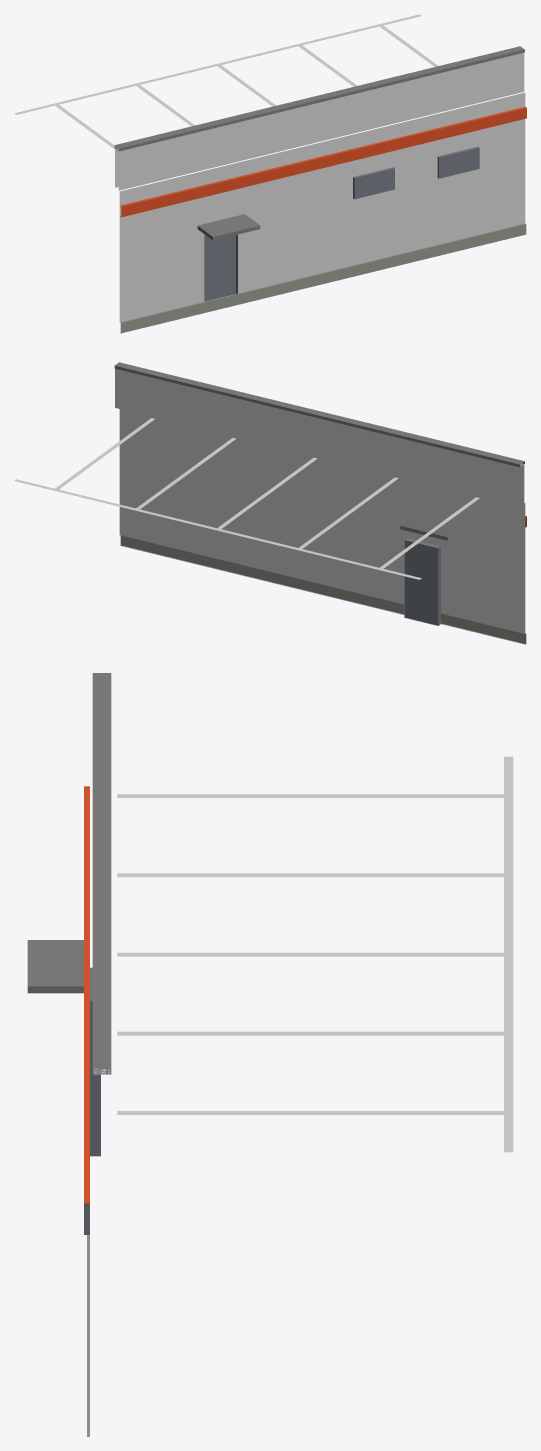
The picture shows the model from 3 angles, top to bottom: view 1: azimuth 30°, elevation 25°; view 2: azimuth 150°, elevation 25°; view 3: azimuth 270°, elevation 25°; orthographic projection. The views are drawn at different scales.
Visible parts, largest first — view 1: a2008/0/base-w4; view 2: a2008/0/base-w4; view 3: a2008/0/base-w4.
Boxes of the visible parts, x1,y1,x2,y2 form: a2008/0/base-w4: (14, 14, 526, 333); a2008/0/base-w4: (14, 362, 526, 644); a2008/0/base-w4: (27, 673, 513, 1436).
Size of the model in its own units: 12 by 5.2 by 6.22.
